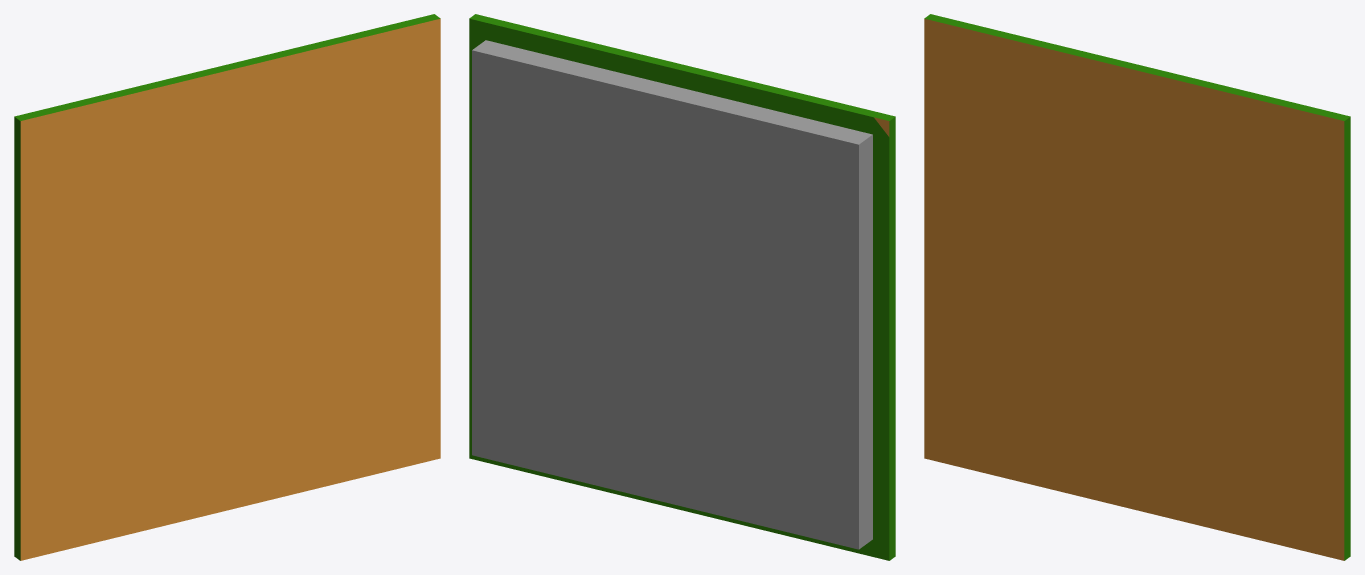
Rendered from CPU.fbx.
3 views of the same model, side by side, from view 1: azimuth 30°, elevation 25°; view 2: azimuth 150°, elevation 25°; view 3: azimuth 330°, elevation 25° (orthographic).
Parts seen in each view (by area): view 1: CPU; view 2: CPU; view 3: CPU.
Part boxes in pixels (bbox=[...]): CPU: bbox=[14, 14, 440, 560]; CPU: bbox=[469, 14, 895, 560]; CPU: bbox=[924, 14, 1350, 560].
Size of the model in its own units: 40.14 by 40.14 by 3.34.
